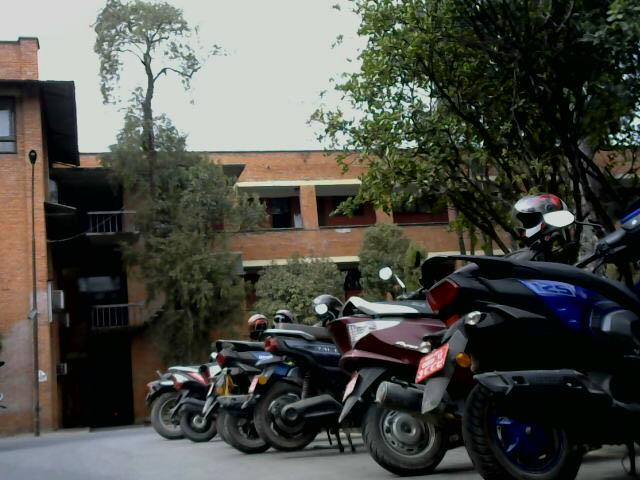Electrical Pole: (23, 138, 55, 434)
Motorcycle: (420, 199, 640, 479), (331, 286, 442, 476), (140, 333, 248, 457), (248, 312, 328, 455)
Road: (0, 440, 496, 480)
Tree: (90, 0, 252, 332), (244, 266, 366, 316)
